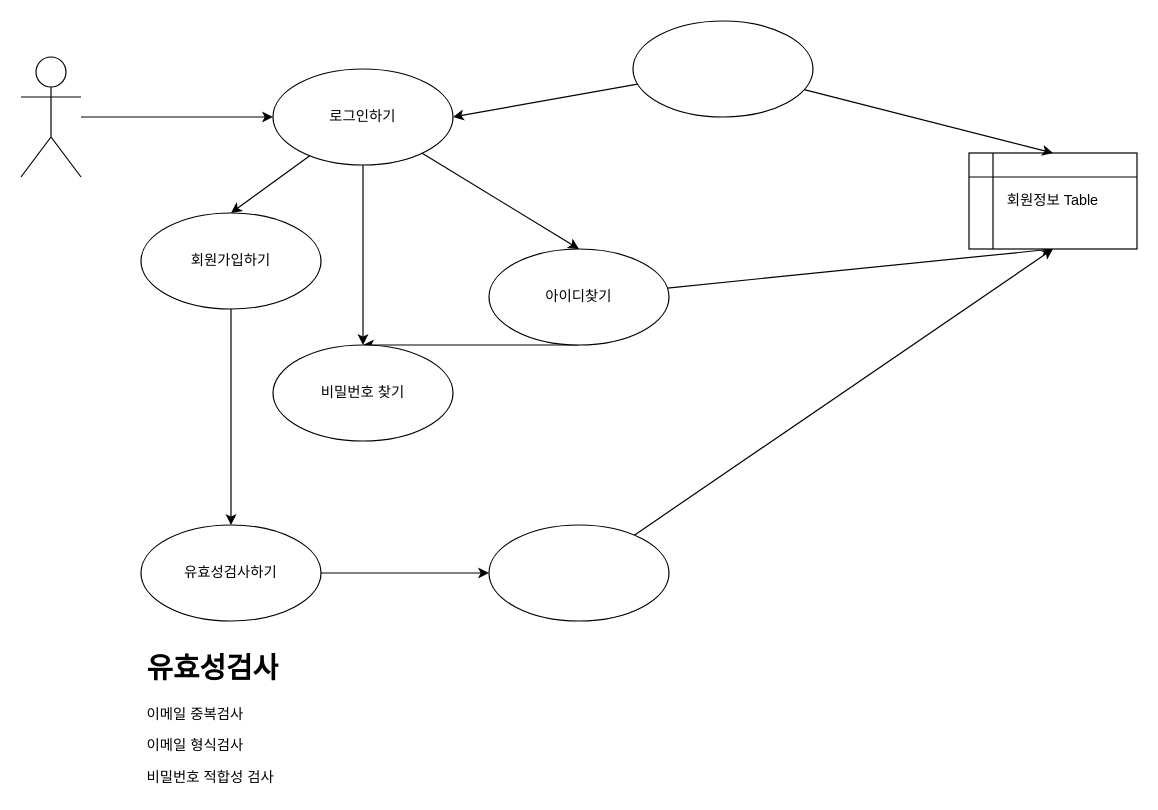
Image size: 1158x810. Some labels were removed from this diagram. The shapes that lost their labels are listed below. From the top down, each one's centre as x and y in pixels, then its label:
At point 722,68: "회원정보 조회 로그인 승인하기".
At point 50,116: "유저".
At point 578,572: "회원정보 저장하기".
